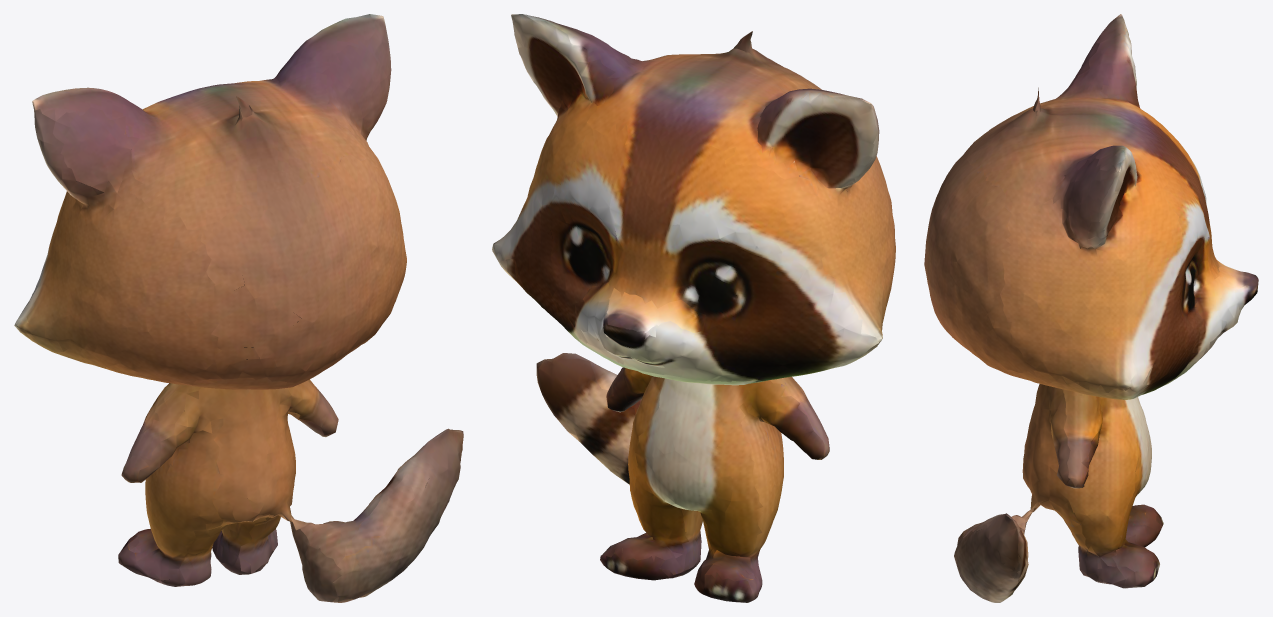
Rendered from foxpng.glb.
3 views of the same model, side by side, from view 1: azimuth 30°, elevation 25°; view 2: azimuth 150°, elevation 25°; view 3: azimuth 270°, elevation 25° (orthographic). The views are drawn at different scales.
Parts seen in each view (by area): view 1: world; view 2: world; view 3: world.
Part boxes in pixels (left/top/right/bottom): world: left=14, top=14, right=463, bottom=602; world: left=492, top=14, right=895, bottom=602; world: left=924, top=14, right=1258, bottom=602.
Bounding box in the file's own units: 0.7313 × 0.9178 × 0.5846.
Materials: 1 (1 with a texture image).
